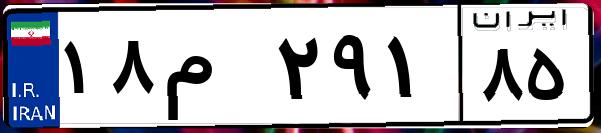1: (385, 28, 445, 110), (57, 26, 110, 100)
2: (270, 28, 330, 110)
5: (525, 38, 570, 115)
8: (475, 38, 525, 113), (110, 28, 158, 98)
9: (330, 28, 385, 110)
م: (158, 20, 270, 120)
